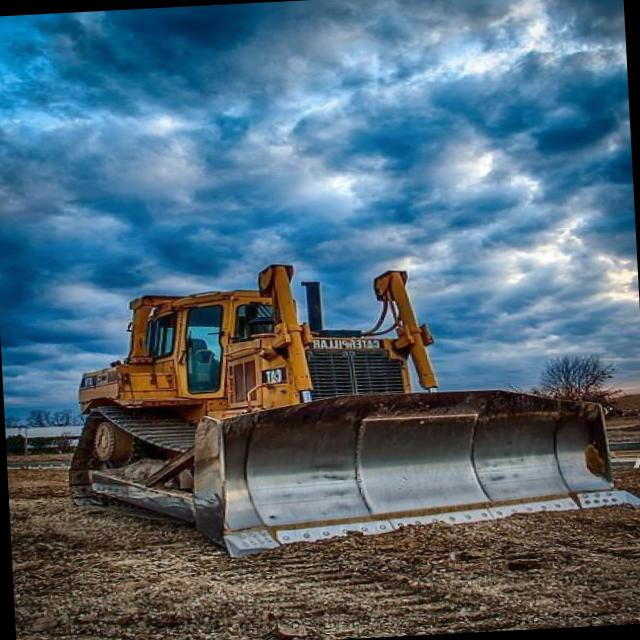red-sand: (8, 468, 640, 640)
